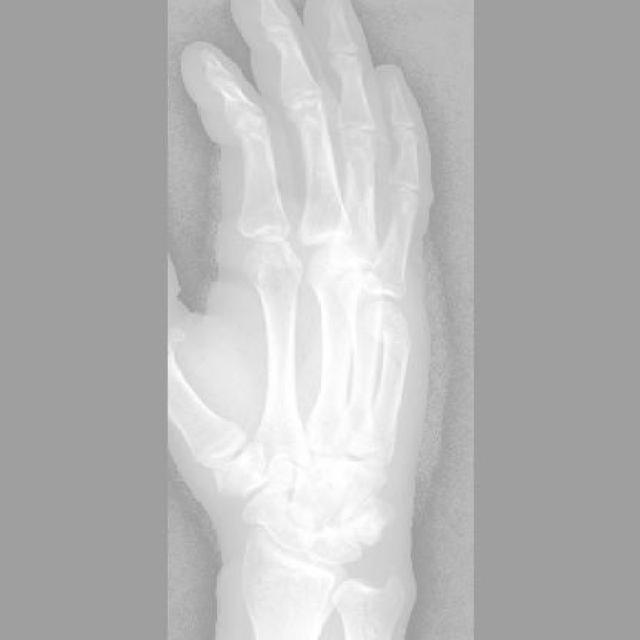Fracture: (365, 305, 418, 354)
